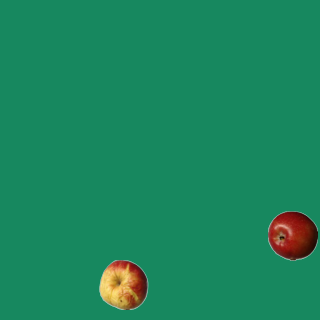Apple Braeburn: (267, 210, 317, 260)
Apple Red Yellow 1: (98, 259, 148, 309)
